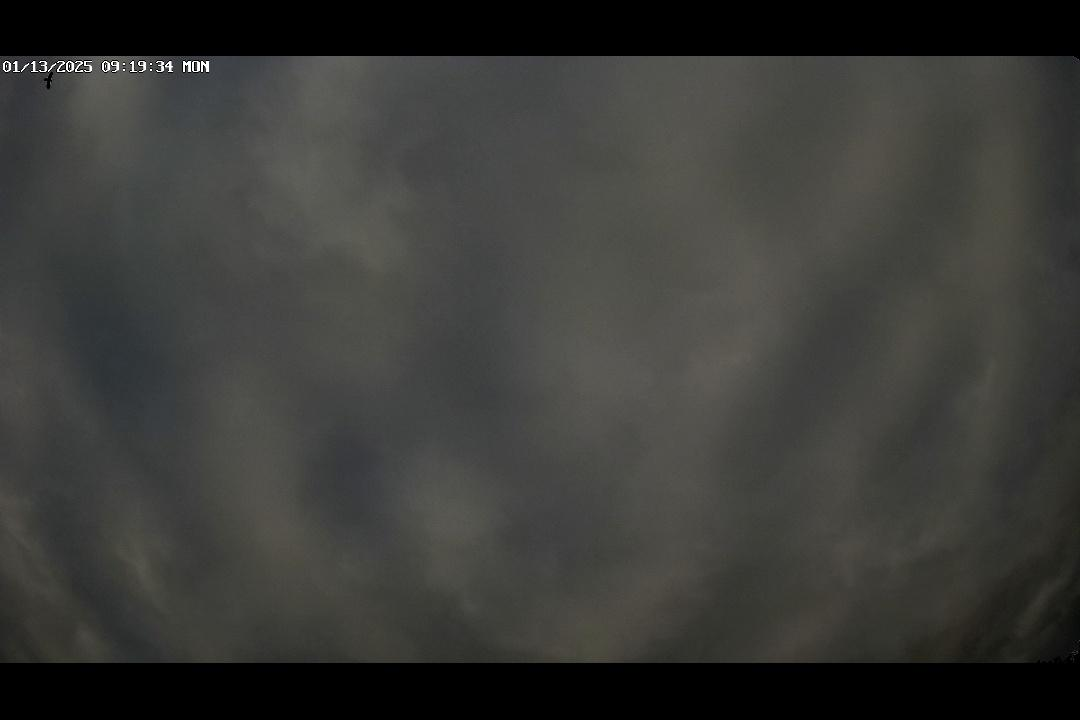WildLife: (38, 71, 60, 91)
